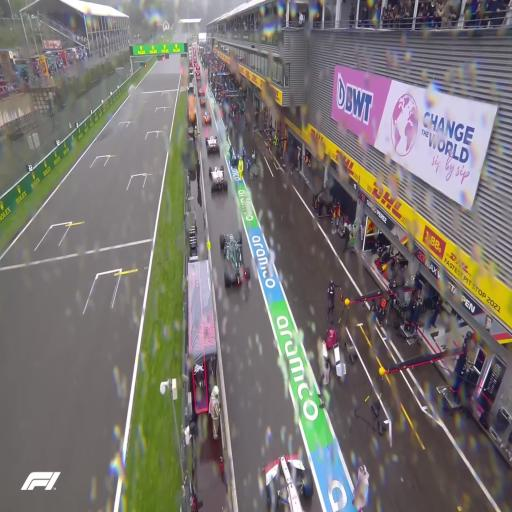f1_car: (263, 456, 314, 511), (220, 231, 250, 286), (209, 165, 227, 191), (205, 135, 219, 154), (202, 112, 211, 124), (198, 88, 205, 97), (199, 97, 205, 107), (196, 64, 201, 70), (196, 70, 201, 76), (192, 48, 196, 52), (194, 55, 196, 60)
